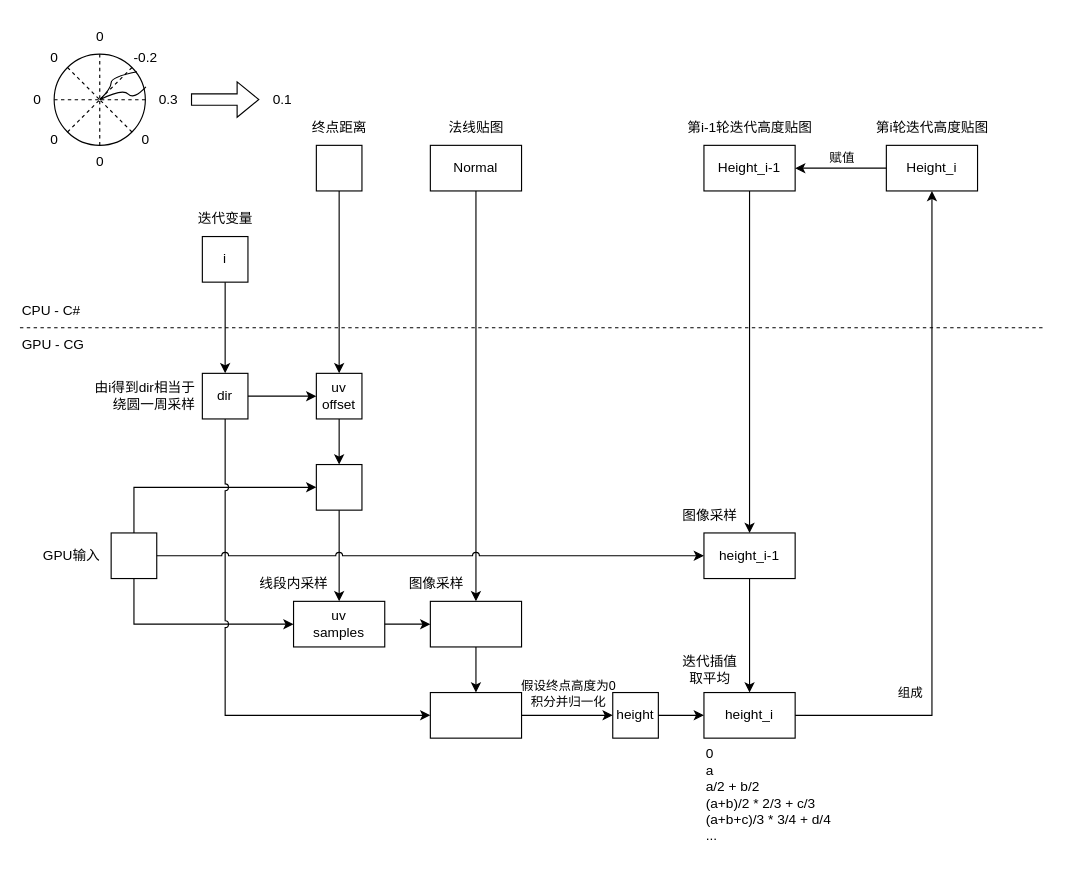
Some shapes in this 1067 by 871 pixel diagram are drawn without their labels. Each missing label, with the centre of its shape:
"end uv" goes at point 338,486.
"length" goes at point 338,167.
"normal sample projections" goes at point 475,714.
"normal samples" goes at point 475,623.
"start uv" goes at point 133,555.
